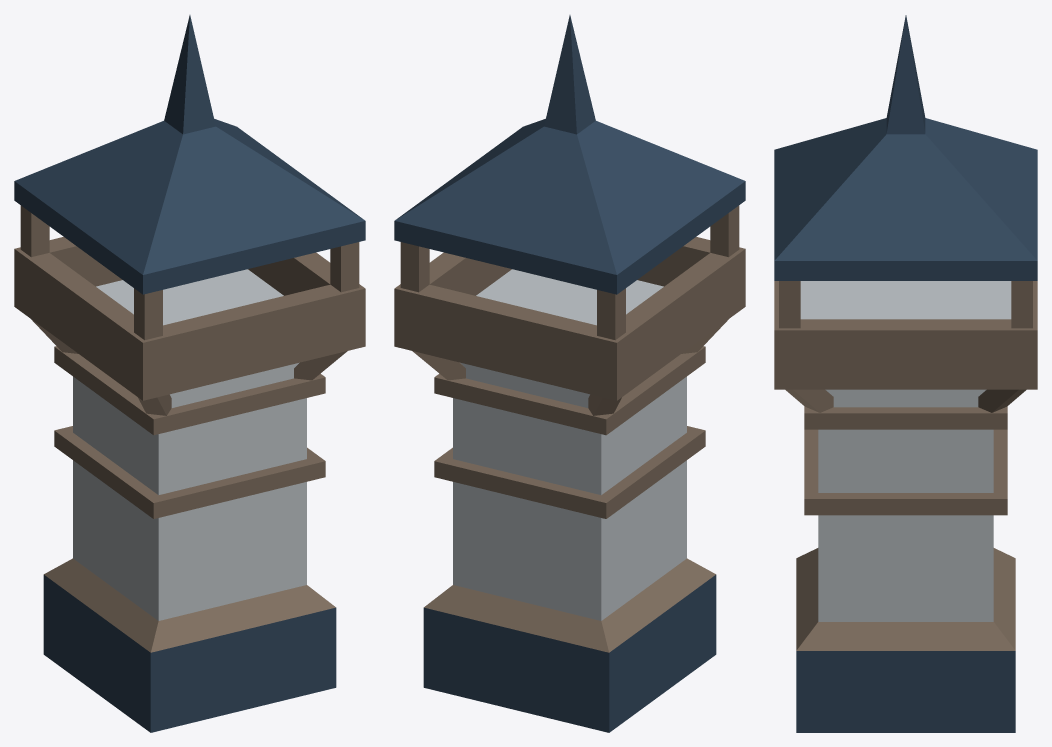
File: tower.dae
3 views of the same model, side by side, from view 1: azimuth 30°, elevation 25°; view 2: azimuth 150°, elevation 25°; view 3: azimuth 270°, elevation 25° (orthographic). The views are drawn at different scales.
Visible parts, largest first — view 1: Cube; view 2: Cube; view 3: Cube.
Part boxes in pixels (x1,y1,x2,y2): Cube: (14,15,365,732); Cube: (394,15,745,732); Cube: (774,15,1037,732).
Bounding box in the file's own units: 3.61 × 3.61 × 10.2.
1 material, 1 textured.
